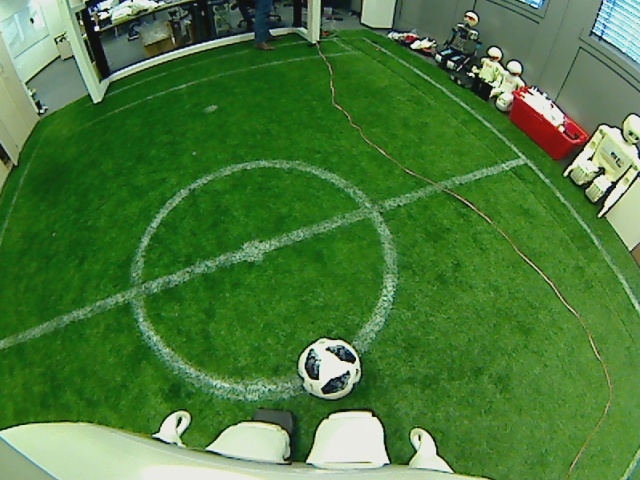ball: (295, 336, 362, 400)
